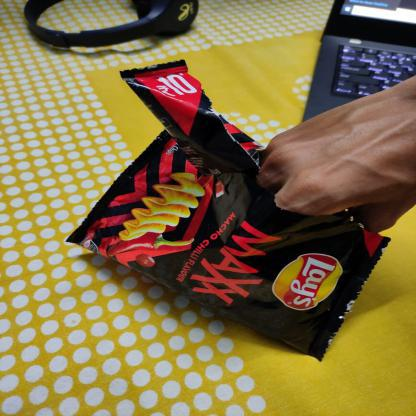max_chili: (120, 73, 362, 352)
